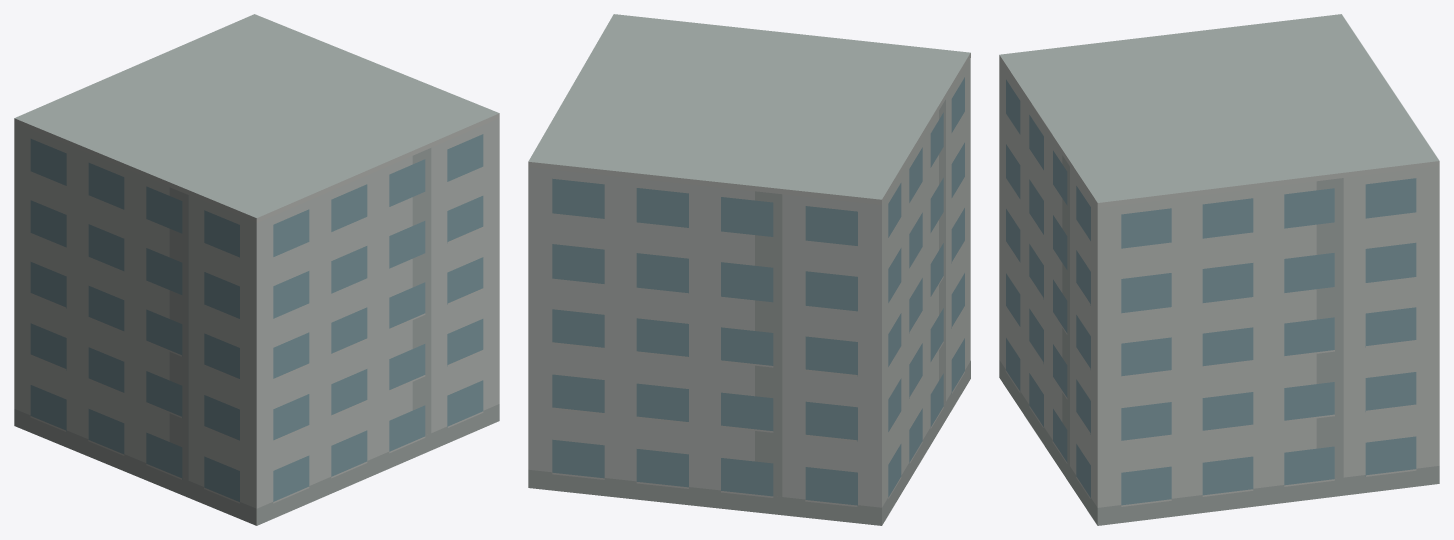
The model's file is survey-upis-32645766.glb.
3 renders of one model, left to right at view 1: azimuth 30°, elevation 25°; view 2: azimuth 150°, elevation 25°; view 3: azimuth 270°, elevation 25°, orthographic. The views are drawn at different scales.
Parts seen in each view (by area): view 1: survey-upis-32645766.tmp; view 2: survey-upis-32645766.tmp; view 3: survey-upis-32645766.tmp.
Boxes of the visible parts, x1,y1,x2,y2 form: survey-upis-32645766.tmp: (14,14,499,525); survey-upis-32645766.tmp: (528,14,970,525); survey-upis-32645766.tmp: (999,14,1439,525).
Size of the model in its own units: 19.16 by 15.25 by 18.86.
